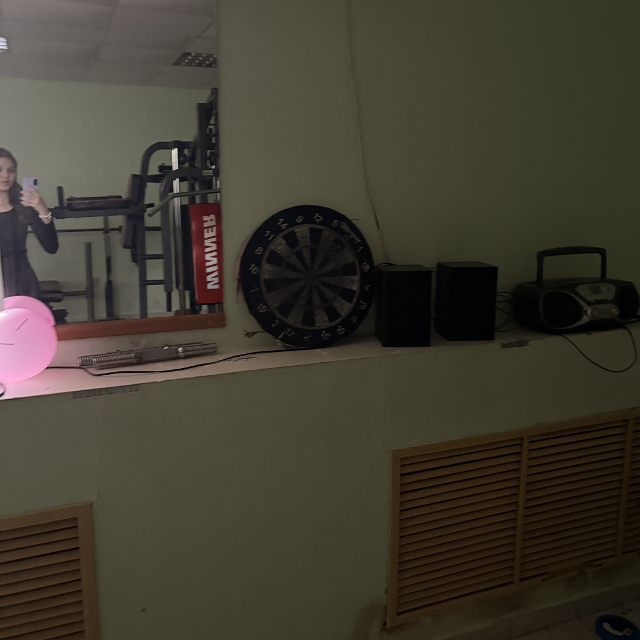balloon: (1, 307, 58, 384)
